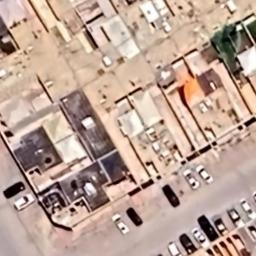SUV: (13, 192, 36, 213)
sedan: (161, 182, 182, 208), (3, 178, 27, 200), (110, 211, 130, 237), (210, 212, 230, 236), (191, 226, 212, 248), (179, 232, 198, 256), (226, 205, 244, 230), (238, 196, 256, 221), (195, 164, 215, 186), (124, 206, 144, 227), (182, 169, 200, 190)
van: (195, 213, 219, 243), (167, 241, 183, 256)
